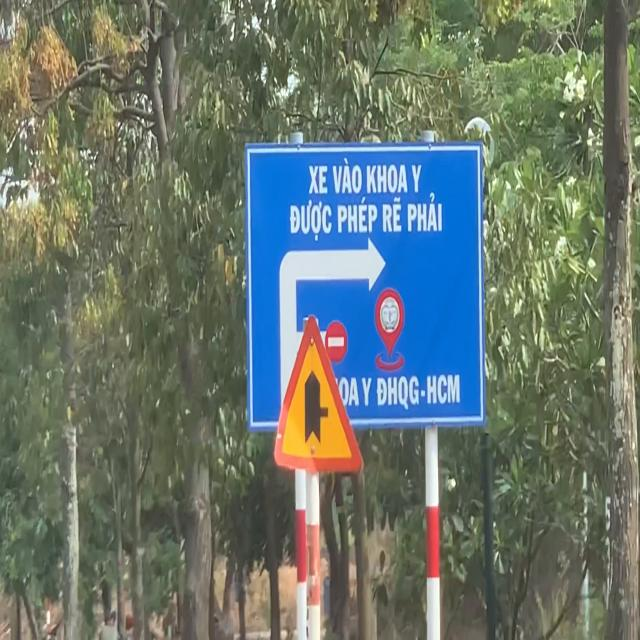Giao voi duong khong uu tien: (268, 305, 369, 478)
